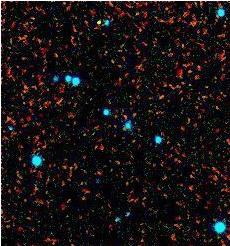star: (79, 3, 109, 33)
